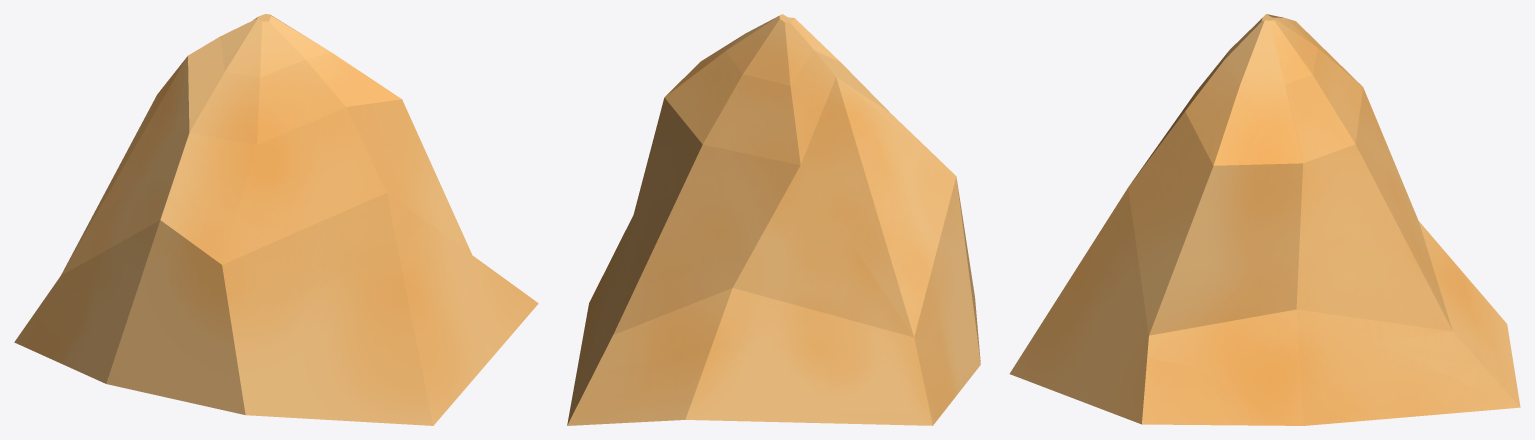
The model's file is mountains.fbx.
3 renders of one model, left to right at view 1: azimuth 30°, elevation 25°; view 2: azimuth 150°, elevation 25°; view 3: azimuth 270°, elevation 25°, orthographic. The views are drawn at different scales.
Visible parts, largest first — view 1: mountains; view 2: mountains; view 3: mountains.
Part boxes in pixels (bbox=[...]): mountains: bbox=[14, 14, 538, 425]; mountains: bbox=[567, 14, 980, 425]; mountains: bbox=[1009, 14, 1520, 425].
Size of the model in its own units: 260 by 204 by 275.
1 material, 1 textured.
